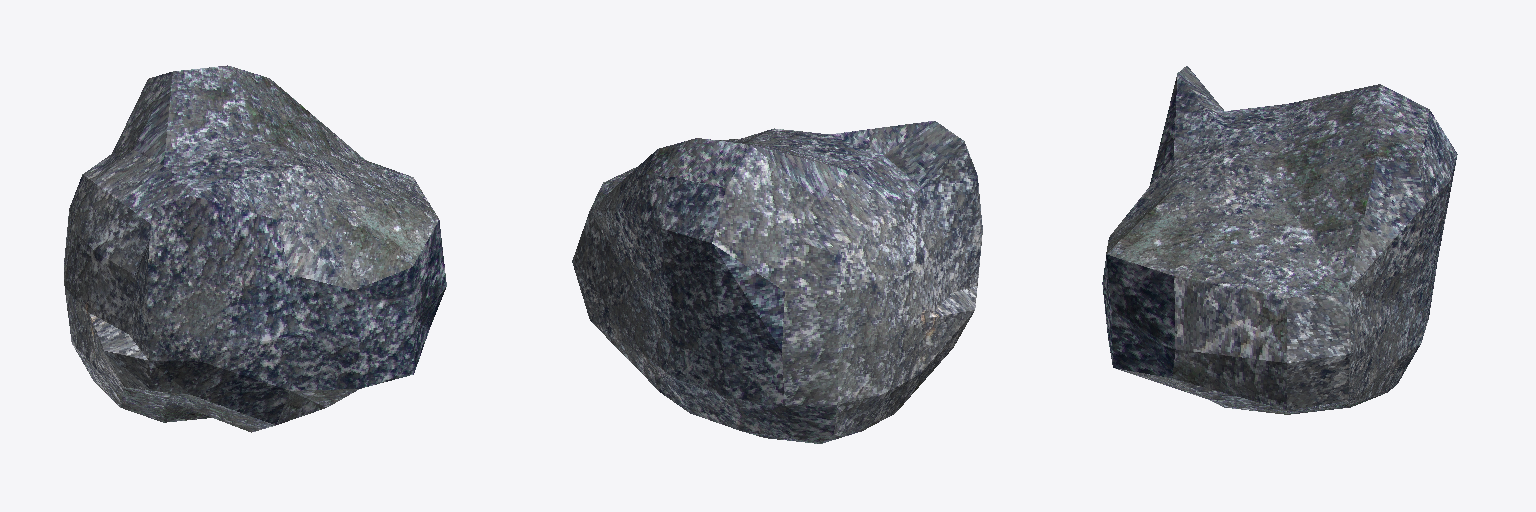
3 renders of one model, left to right at view 1: azimuth 30°, elevation 25°; view 2: azimuth 150°, elevation 25°; view 3: azimuth 270°, elevation 25°, orthographic.
Parts seen in each view (by area): view 1: asteroid3_Cube; view 2: asteroid3_Cube; view 3: asteroid3_Cube.
Part boxes in pixels (x1,y1,x2,y2): asteroid3_Cube: (64, 65, 446, 432); asteroid3_Cube: (572, 121, 982, 443); asteroid3_Cube: (1102, 66, 1457, 414).
Size of the model in its own units: 2.14 by 1.78 by 1.84.
1 materials, 1 textured.